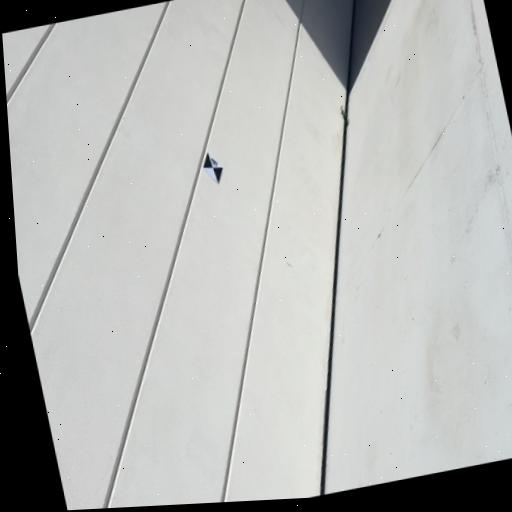target4: (203, 151, 224, 185)
